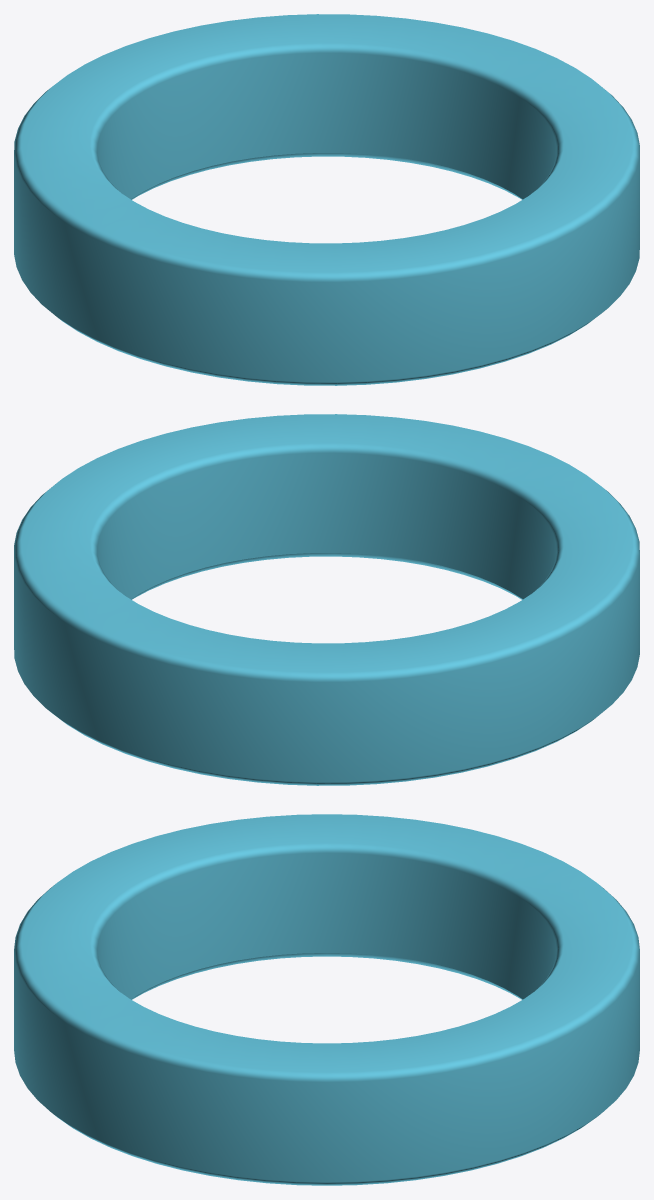
3 renders of one model, top to bottom at view 1: azimuth 30°, elevation 25°; view 2: azimuth 150°, elevation 25°; view 3: azimuth 270°, elevation 25°, orthographic.
Parts seen in each view (by area): view 1: seal_body; view 2: seal_body; view 3: seal_body.
Boxes of the visible parts, x1,y1,x2,y2 form: seal_body: (14,14,639,385); seal_body: (14,414,639,785); seal_body: (14,814,639,1185).
Bounding box in the file's own units: 0.0476 × 0.00952 × 0.0476.
